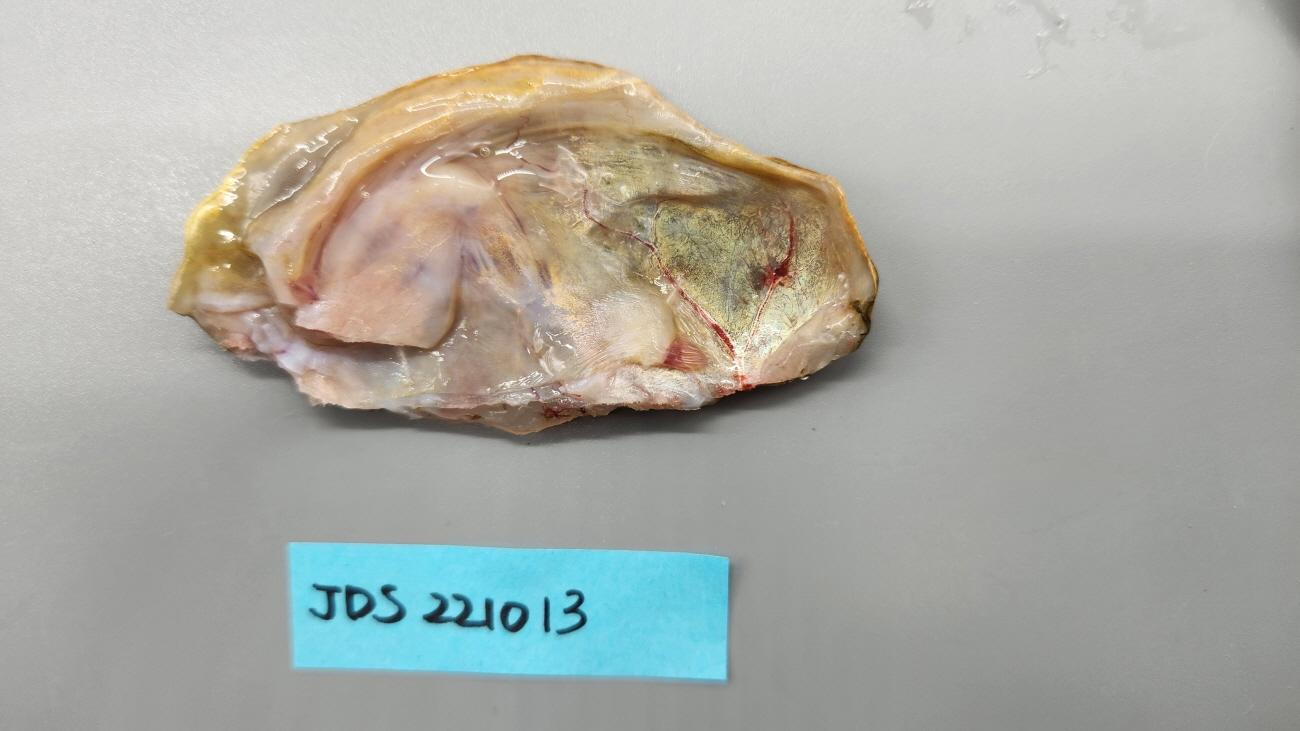POGCN: (163, 52, 878, 439)
